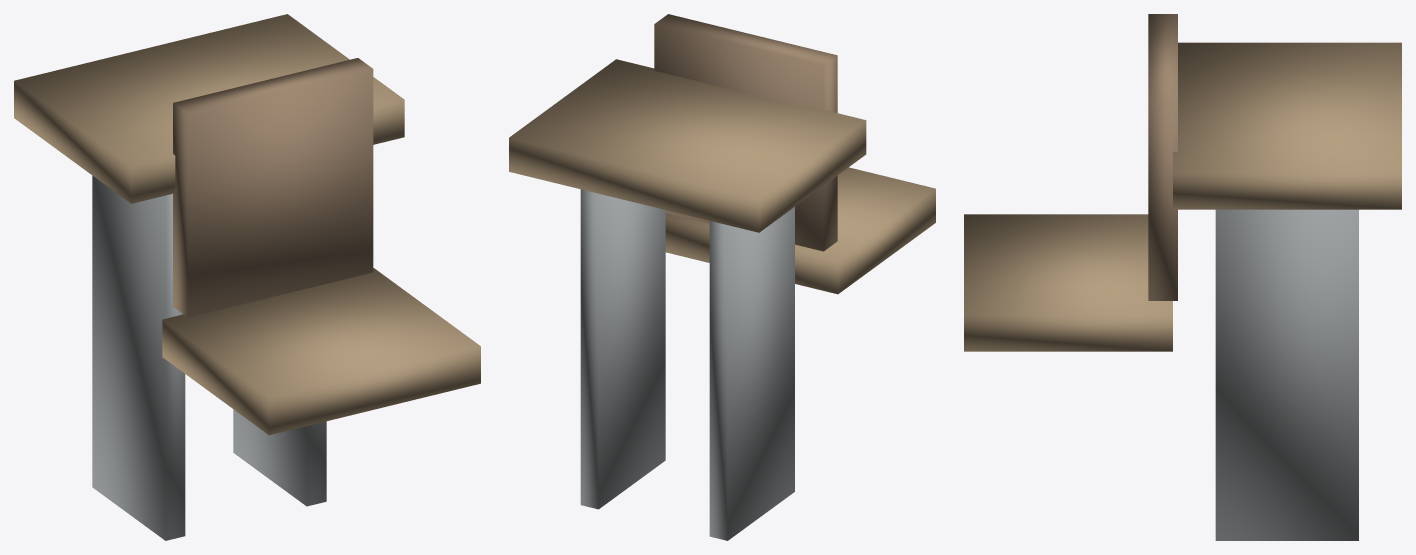
File: classroom_desk__tall.glb
3 renders of one model, left to right at view 1: azimuth 30°, elevation 25°; view 2: azimuth 150°, elevation 25°; view 3: azimuth 270°, elevation 25°, orthographic. The views are drawn at different scales.
Parts seen in each view (by area): view 1: world; view 2: world; view 3: world.
Boxes of the visible parts, left/top/right/bottom form: world: left=14, top=14, right=480, bottom=540; world: left=509, top=14, right=935, bottom=540; world: left=964, top=14, right=1401, bottom=540.
Bounding box in the file's own units: 0.62 × 0.986 × 0.88.
